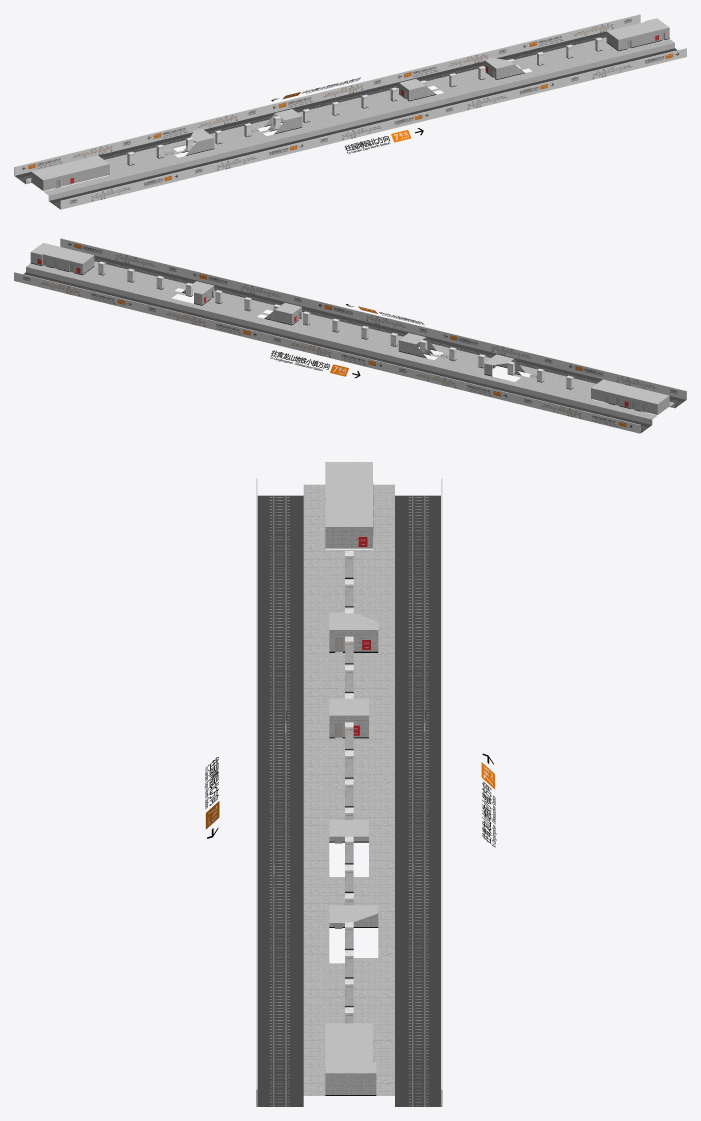
The picture shows the model from 3 angles, top to bottom: view 1: azimuth 30°, elevation 25°; view 2: azimuth 150°, elevation 25°; view 3: azimuth 270°, elevation 25°; orthographic projection. The views are drawn at different scales.
Parts seen in each view (by area): view 1: road-b2-2, 园博园北方向, 青龙山方向, b2-房间, 轨道, b2-水泥, Object001; view 2: road-b2-2, 青龙山方向, 园博园北方向, 轨道, b2-房间, b2-水泥, 7号线园博园方向002; view 3: 轨道, road-b2-2, b2-房间, 园博园北方向, 青龙山方向.
Part boxes in pixels (left/top/right/bottom): road-b2-2: left=26, top=37, right=674, bottom=195; 园博园北方向: left=60, top=48, right=686, bottom=209; 青龙山方向: left=14, top=14, right=640, bottom=175; b2-房间: left=31, top=18, right=669, bottom=190; 轨道: left=15, top=31, right=677, bottom=208; b2-水泥: left=26, top=43, right=674, bottom=200; Object001: left=344, top=128, right=423, bottom=153; road-b2-2: left=26, top=261, right=674, bottom=419; 青龙山方向: left=14, top=272, right=640, bottom=433; 园博园北方向: left=60, top=238, right=686, bottom=399; 轨道: left=23, top=255, right=685, bottom=432; b2-房间: left=30, top=243, right=669, bottom=414; b2-水泥: left=26, top=267, right=674, bottom=424; 7号线园博园方向002: left=270, top=350, right=360, bottom=378; 轨道: left=257, top=495, right=440, bottom=1106; road-b2-2: left=303, top=484, right=394, bottom=1095; b2-房间: left=325, top=462, right=378, bottom=1095; 园博园北方向: left=256, top=478, right=257, bottom=1106; 青龙山方向: left=441, top=478, right=442, bottom=1106.
Bounding box in the file's own units: 182 × 6.53 × 39.04.
20 materials, 20 textured.
